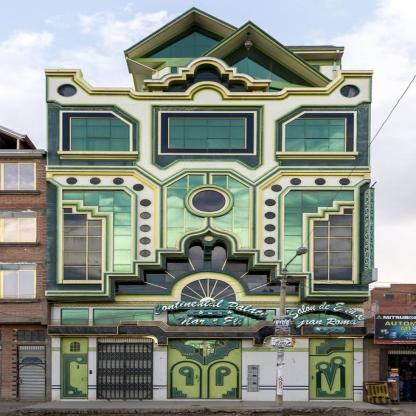Cornice: (45, 217, 370, 297), (44, 68, 374, 97), (47, 320, 367, 346), (144, 57, 271, 82)
Deco: (44, 6, 378, 402), (152, 299, 269, 326), (288, 301, 364, 333), (361, 181, 378, 285)
Door: (167, 339, 242, 399), (98, 343, 153, 399), (309, 352, 353, 400), (63, 354, 88, 400)
Facade: (44, 7, 377, 403)
Glass Wall: (283, 190, 353, 272), (63, 191, 131, 271), (313, 209, 353, 280), (167, 174, 204, 248), (212, 174, 249, 248), (63, 208, 101, 280)
Roof: (123, 6, 344, 87)
Sill: (58, 151, 138, 157), (276, 152, 358, 157)
Window: (212, 42, 319, 90), (212, 242, 299, 292), (117, 242, 204, 291), (139, 25, 263, 58), (170, 119, 246, 148), (167, 68, 246, 94), (71, 118, 130, 151), (168, 309, 275, 327), (285, 119, 344, 151), (181, 279, 235, 302), (286, 309, 352, 326), (94, 309, 152, 326), (62, 310, 88, 326), (318, 341, 344, 352), (327, 347, 344, 354), (70, 342, 80, 352), (269, 88, 282, 92)
